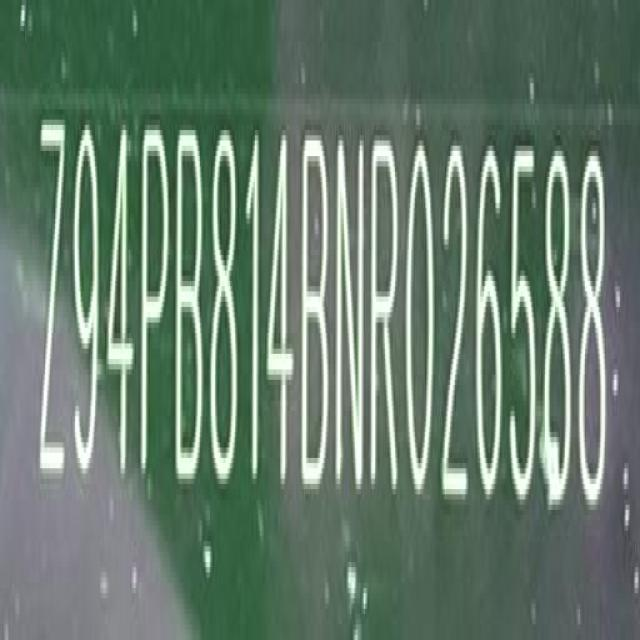0: (407, 145, 438, 508)
1: (245, 126, 263, 496)
2: (442, 145, 474, 507)
4: (267, 129, 297, 498), (109, 119, 138, 494)
5: (510, 144, 539, 511)
6: (474, 144, 504, 508)
8: (578, 150, 608, 518), (210, 127, 240, 494), (544, 147, 574, 514)
9: (71, 123, 102, 493)
B: (302, 131, 334, 498), (177, 123, 207, 490)
N: (339, 132, 369, 502)
P: (138, 119, 170, 493)
R: (370, 137, 403, 503)
Z: (38, 113, 69, 498)
